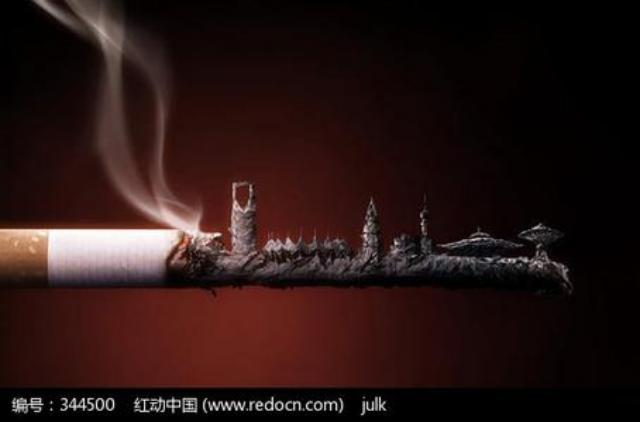Cigarette: (4, 221, 570, 299)
